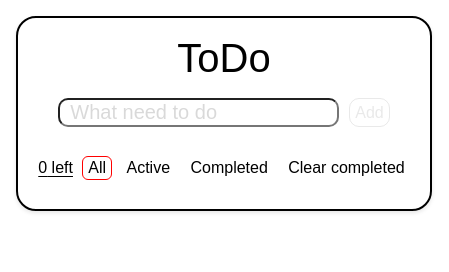
Test: App Component › should add a task when the form is submitted
This screenshot has width=449, height=272.
Type "New Task" into the field with placeholder "What need to do".
click(199, 112); type("New Task")  # box top-left (58, 98), bottom-right (339, 127)
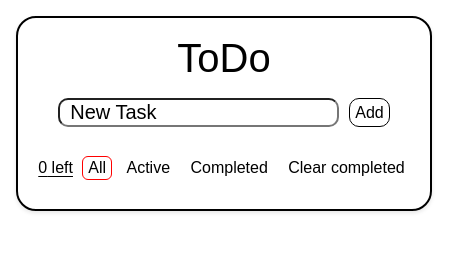
Click the button "Add".
click(370, 112)  # box top-left (349, 98), bottom-right (390, 127)
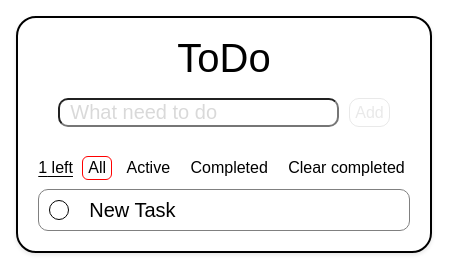
Now the heading "New Task" is shown, box top-left (89, 200), bottom-right (176, 220)
